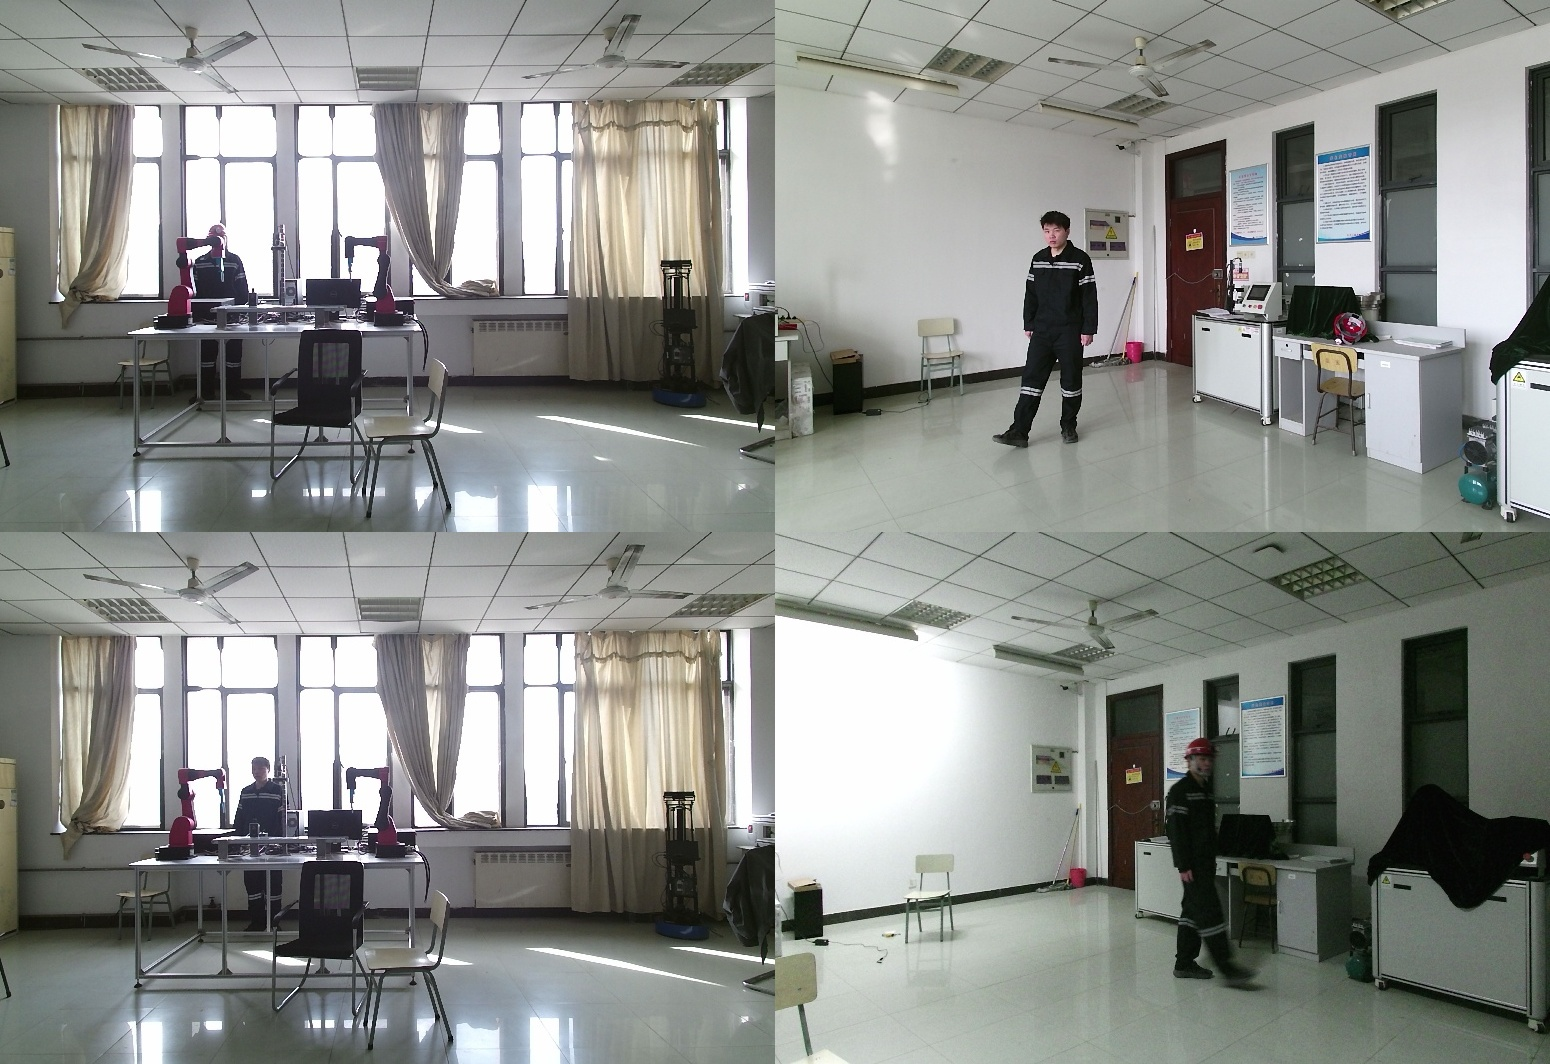person: (994, 213, 1108, 445), (1158, 739, 1226, 981), (233, 758, 288, 941), (193, 224, 249, 404)
